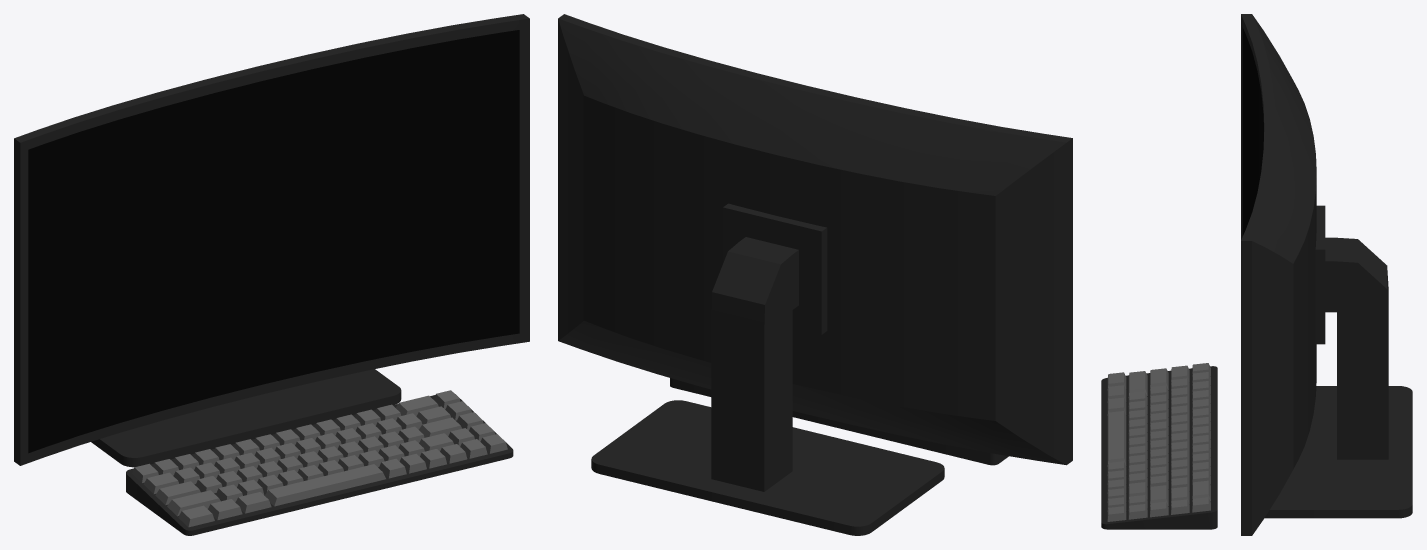
The model's file is desktop_computer.gltf.
3 renders of one model, left to right at view 1: azimuth 30°, elevation 25°; view 2: azimuth 150°, elevation 25°; view 3: azimuth 270°, elevation 25°, orthographic. The views are drawn at different scales.
Visible parts, largest first — view 1: Cube.929; view 2: Cube.929; view 3: Cube.929.
Boxes of the visible parts, bbox=[...] form: Cube.929: bbox=[14, 14, 529, 535]; Cube.929: bbox=[558, 14, 1072, 535]; Cube.929: bbox=[1101, 14, 1412, 535].
Bounding box in the file's own units: 2.31 × 1.56 × 1.34.
Materials: 1 (1 with a texture image).
